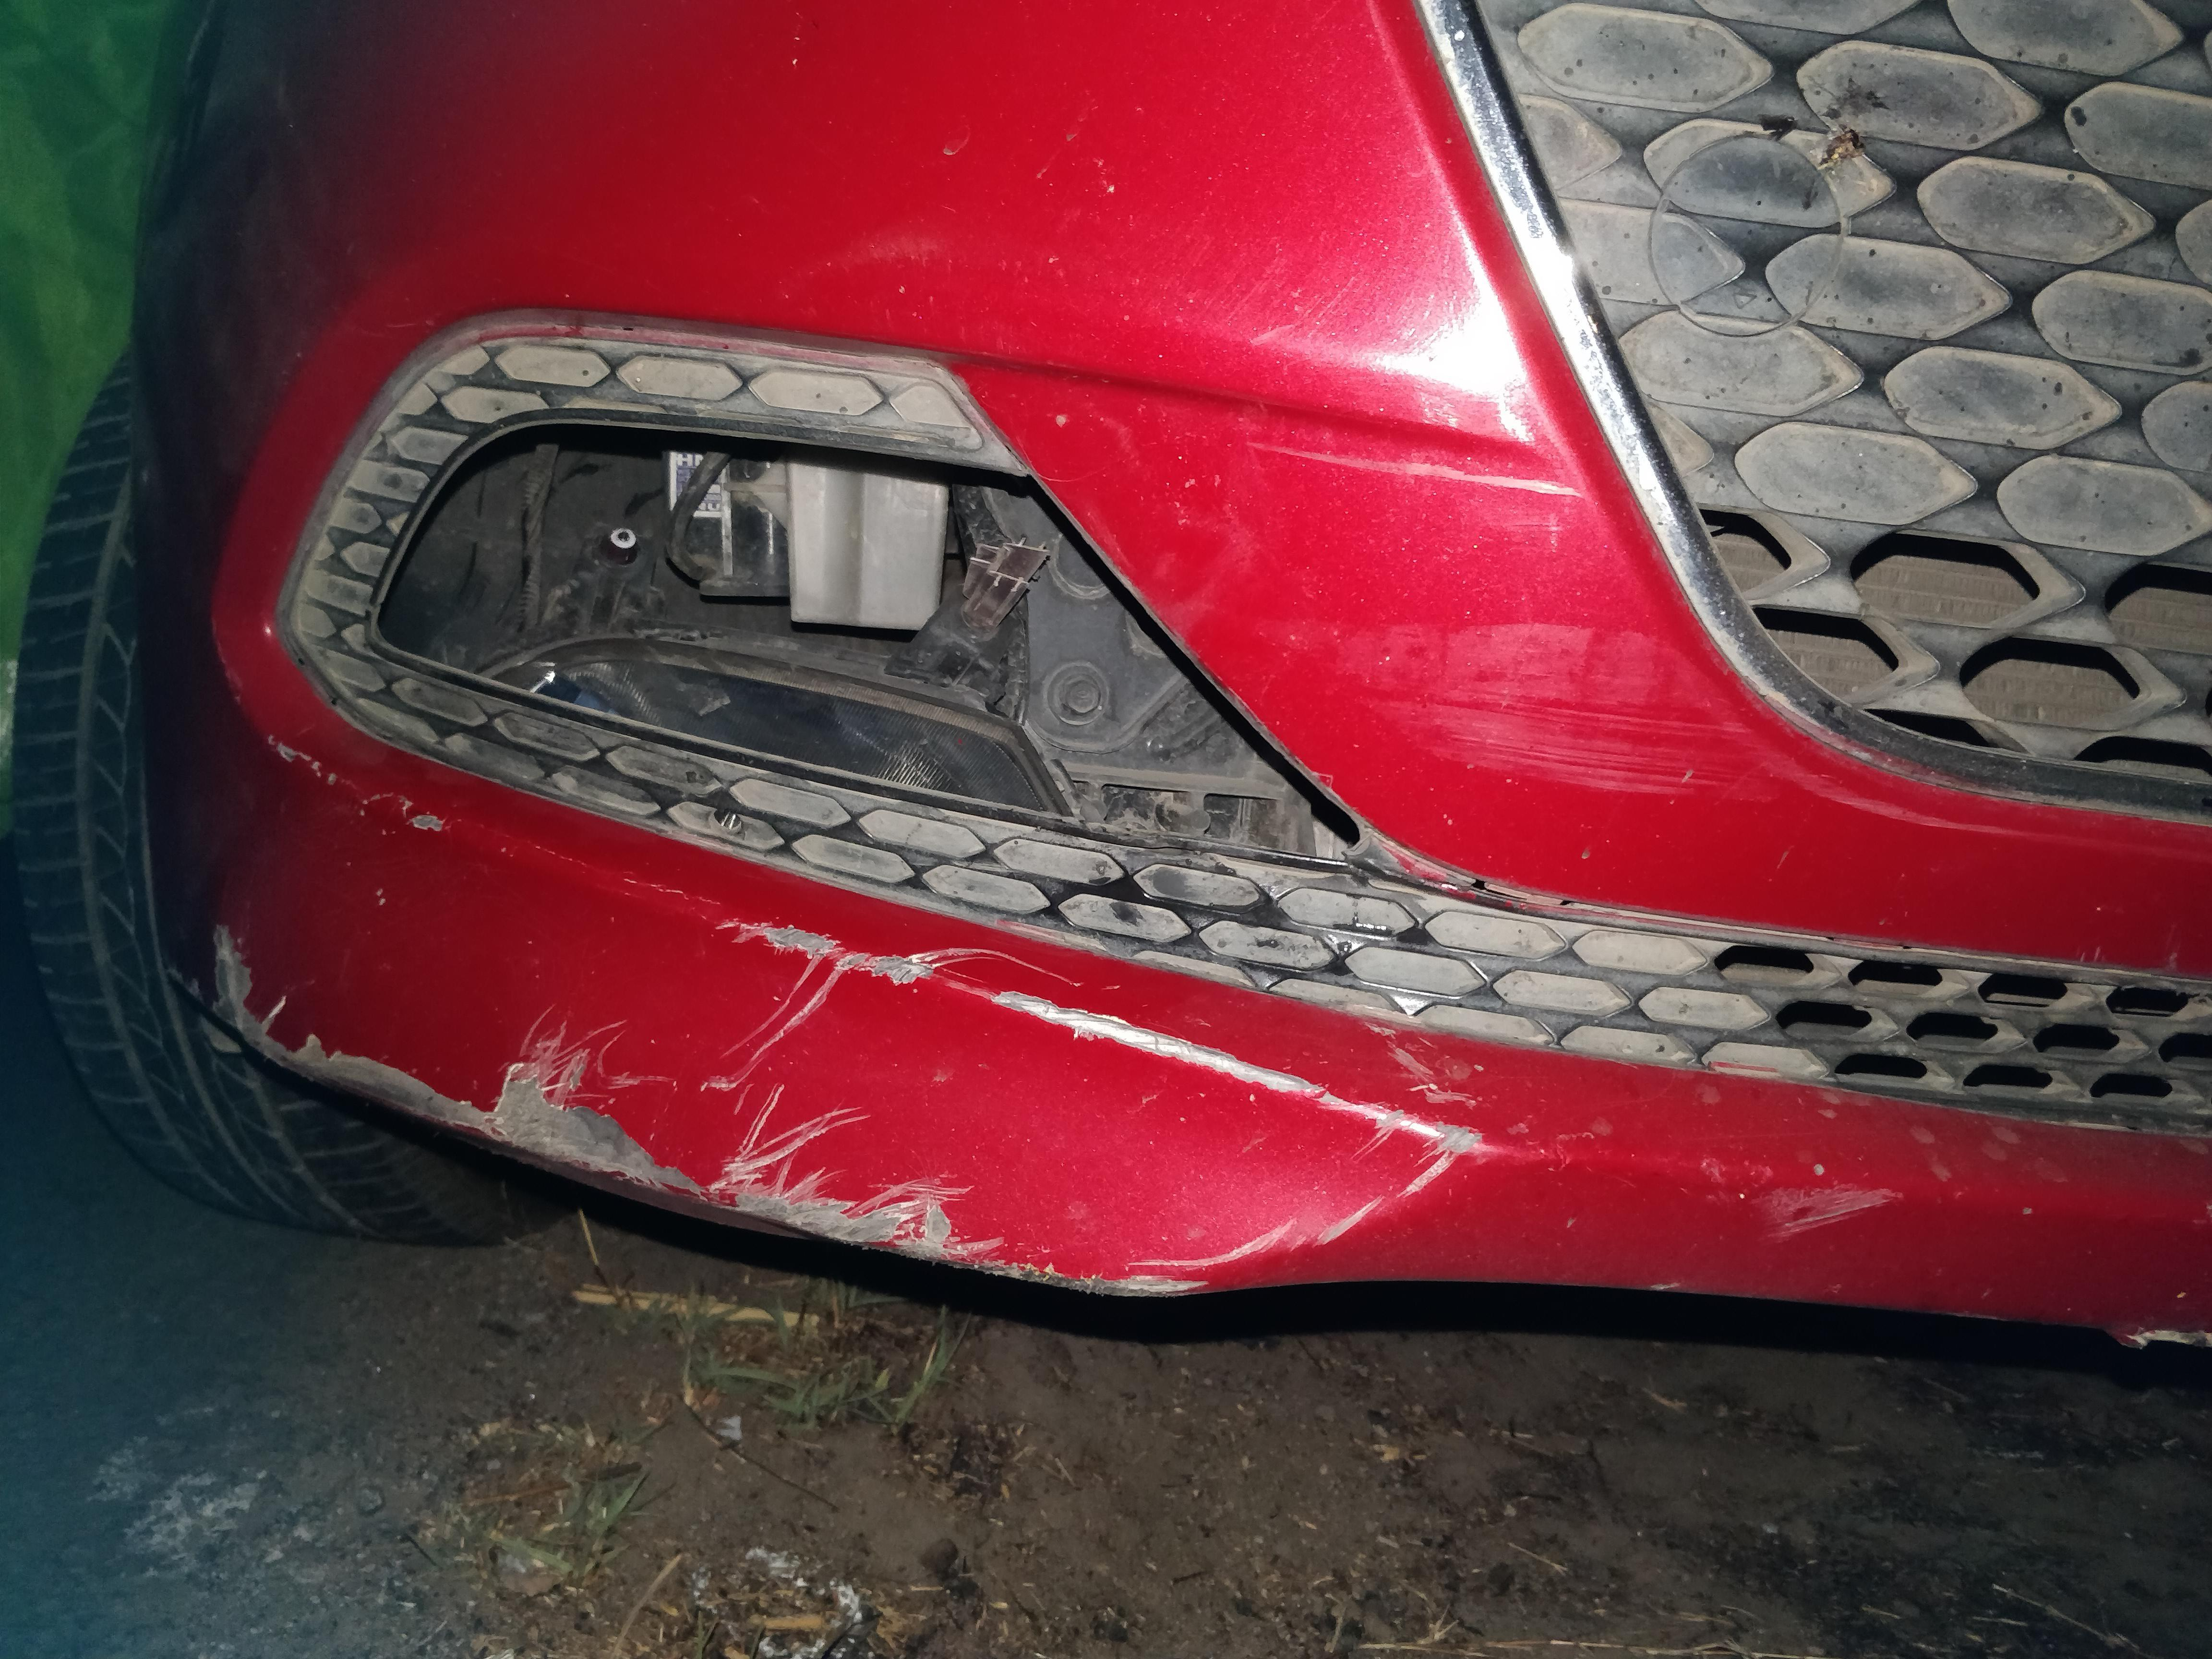front-bumper-dent: (0, 237, 1885, 1326)
